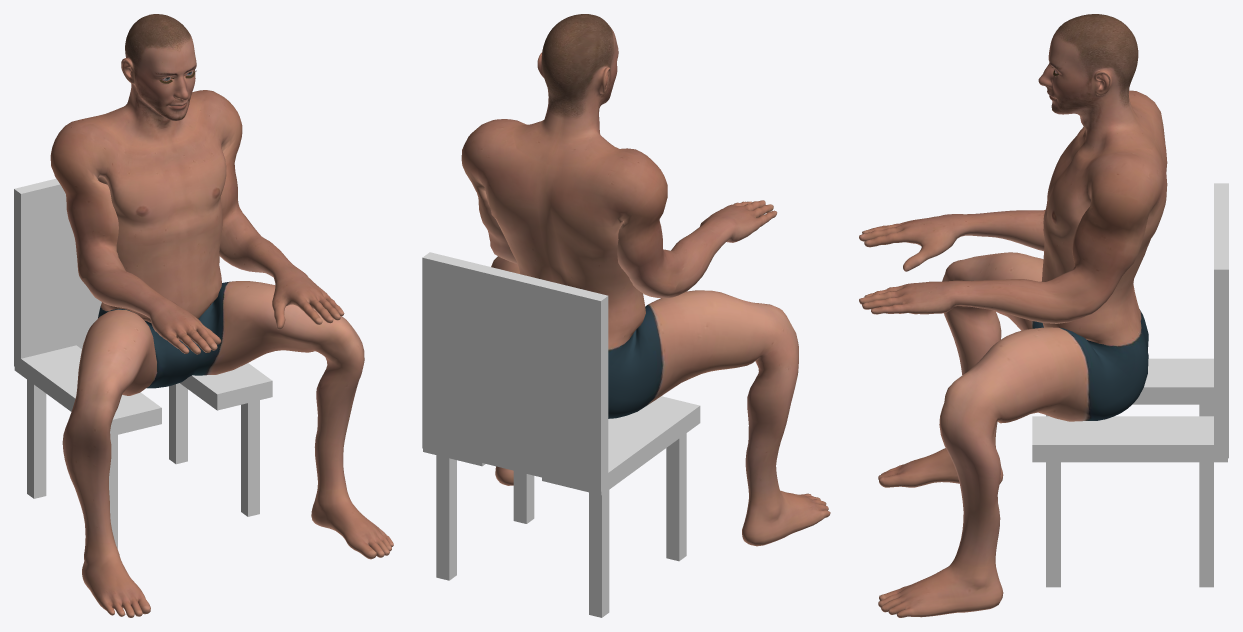
File: a_open_chair_seated.glb
The picture shows the model from 3 angles, left to right: view 1: azimuth 30°, elevation 25°; view 2: azimuth 150°, elevation 25°; view 3: azimuth 270°, elevation 25°; orthographic projection. The views are drawn at different scales.
Parts seen in each view (by area): view 1: Body, Neutral_U_Chair_Back, Neutral_U_Chair_Seat, Neutral_U_Chair_Seat.001, Neutral_U_Chair_Leg.001, Neutral_U_Chair_Leg.002, Neutral_U_Chair_Leg.003, Neutral_U_Chair_Leg; view 2: Body, Neutral_U_Chair_Back, Neutral_U_Chair_Seat, Neutral_U_Chair_Leg.001, Neutral_U_Chair_Leg.003, Neutral_U_Chair_Leg, Neutral_U_Chair_Leg.002; view 3: Body, Neutral_U_Chair_Seat.001, Neutral_U_Chair_Back, Neutral_U_Chair_Seat, Neutral_U_Chair_Leg.002, Neutral_U_Chair_Leg.003.
Boxes of the visible parts, x1,y1,x2,y2 form: Body: (50, 14, 393, 617); Neutral_U_Chair_Back: (14, 178, 101, 370); Neutral_U_Chair_Seat: (14, 345, 161, 436); Neutral_U_Chair_Seat.001: (180, 363, 272, 410); Neutral_U_Chair_Leg.001: (27, 380, 46, 498); Neutral_U_Chair_Leg.002: (241, 400, 259, 516); Neutral_U_Chair_Leg.003: (169, 383, 187, 464); Neutral_U_Chair_Leg: (109, 435, 117, 548); Body: (461, 14, 830, 546); Neutral_U_Chair_Back: (422, 252, 608, 491); Neutral_U_Chair_Seat: (542, 396, 700, 495); Neutral_U_Chair_Leg.001: (589, 490, 609, 617); Neutral_U_Chair_Leg.003: (436, 455, 456, 580); Neutral_U_Chair_Leg: (666, 433, 686, 561); Neutral_U_Chair_Leg.002: (513, 471, 534, 523); Body: (859, 14, 1167, 617); Neutral_U_Chair_Seat.001: (1032, 416, 1227, 462); Neutral_U_Chair_Back: (1214, 183, 1228, 458); Neutral_U_Chair_Seat: (1132, 358, 1213, 404); Neutral_U_Chair_Leg.002: (1046, 462, 1060, 587); Neutral_U_Chair_Leg.003: (1199, 462, 1213, 587).
Size of the model in its own units: 0.8517 by 1.37 by 0.8695.
3 materials, 2 textured.
